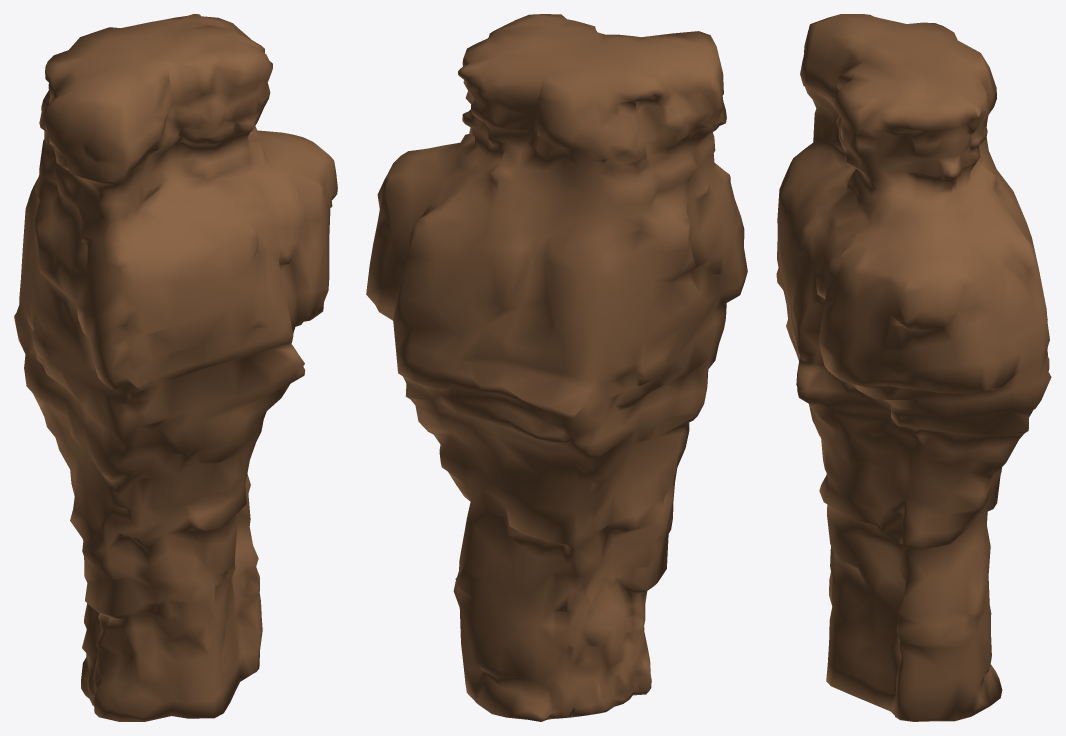
The model's file is MSH_Rocks_Cliff_18_a.FBX.
The picture shows the model from 3 angles, left to right: view 1: azimuth 30°, elevation 25°; view 2: azimuth 150°, elevation 25°; view 3: azimuth 270°, elevation 25°; orthographic projection. The views are drawn at different scales.
Parts seen in each view (by area): view 1: MESH_LOD0; view 2: MESH_LOD0; view 3: MESH_LOD0.
Boxes of the visible parts, <box> form: MESH_LOD0: <box>14,14,337,721</box>; MESH_LOD0: <box>366,14,747,721</box>; MESH_LOD0: <box>776,14,1051,721</box>.
Size of the model in its own units: 291 by 590 by 234.
